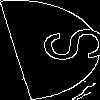S: (24, 25, 100, 67)
